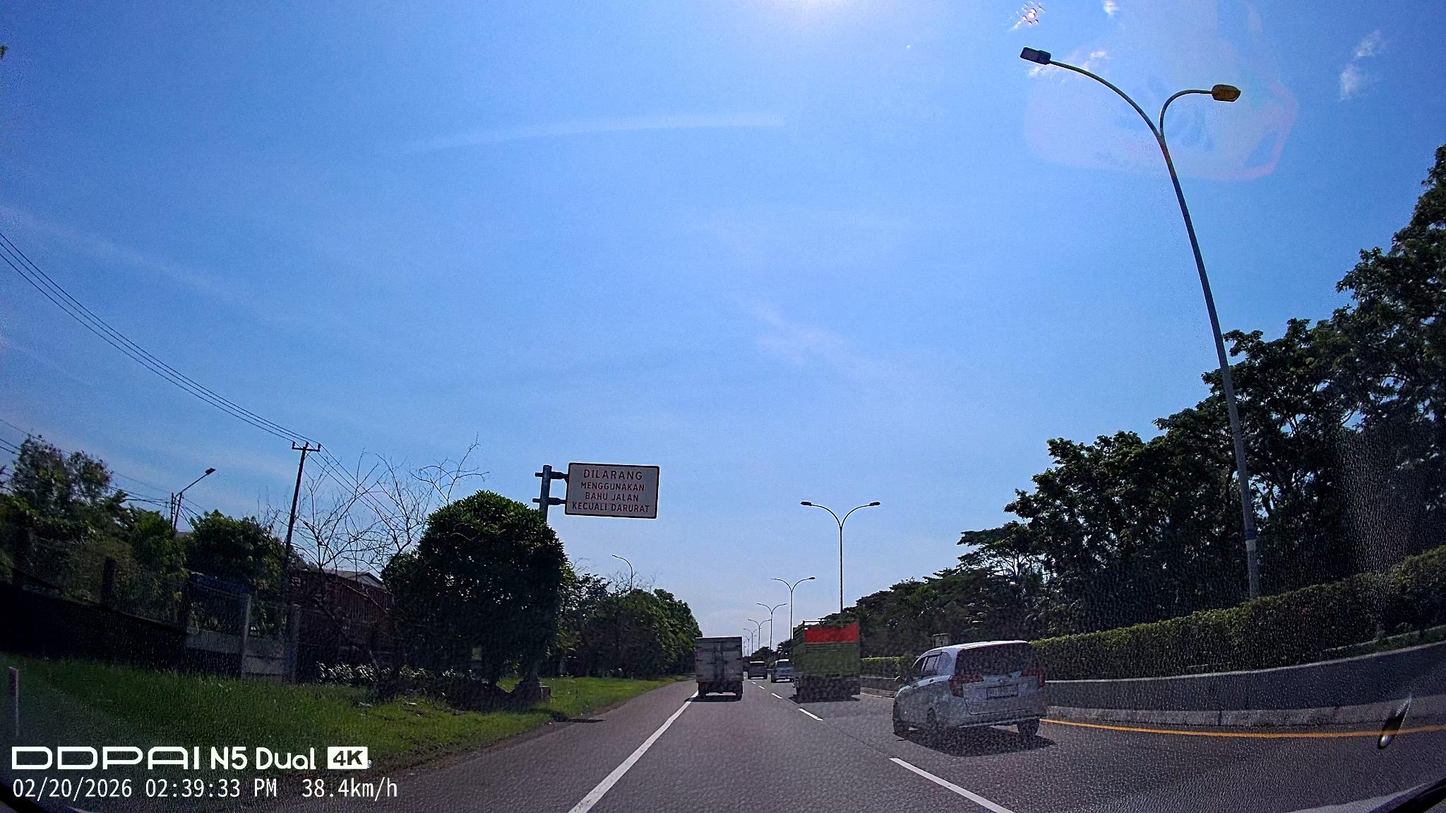rambu_teks: (565, 462, 660, 520)
